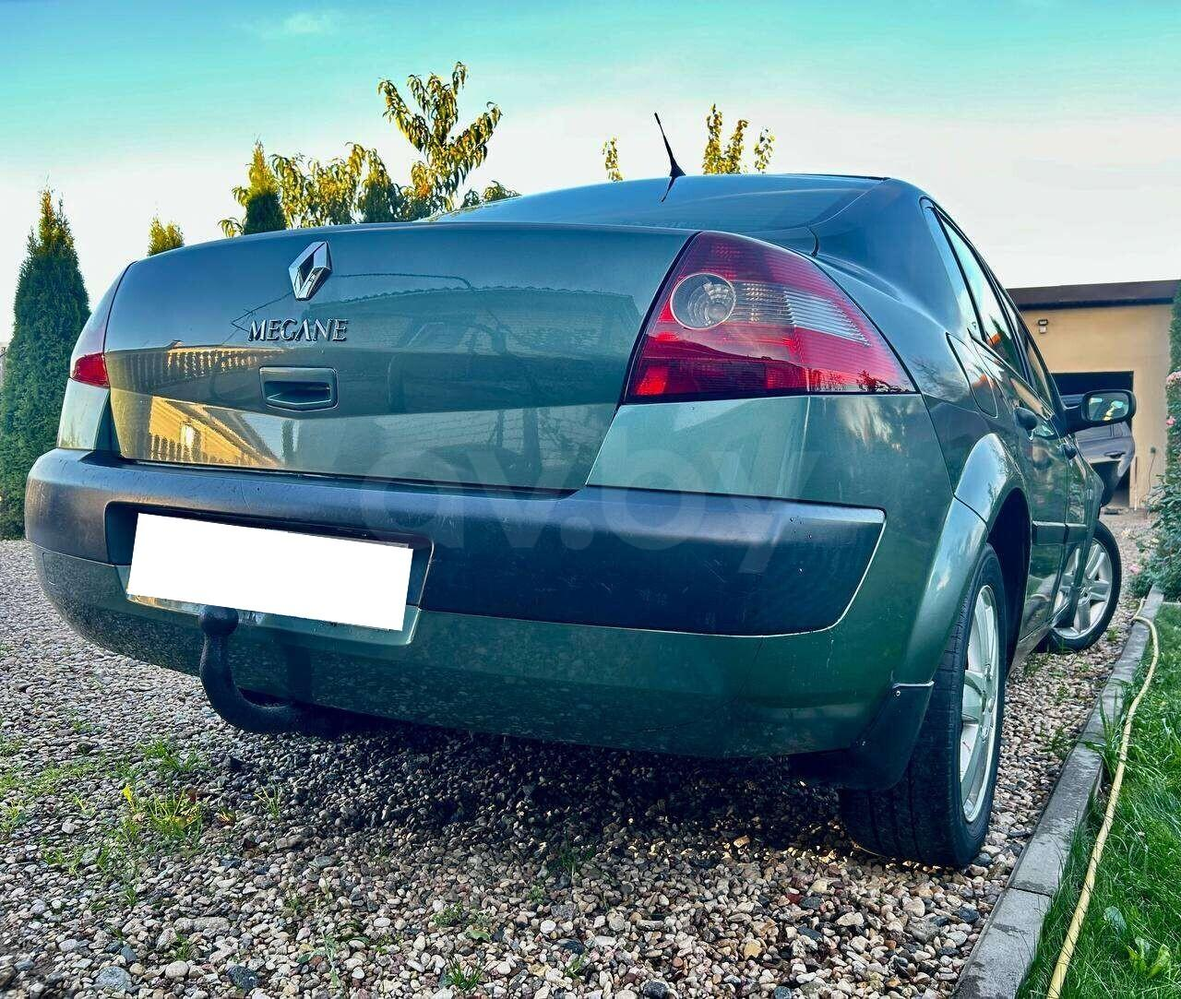Megane_2002-2006: (17, 166, 1119, 851)
